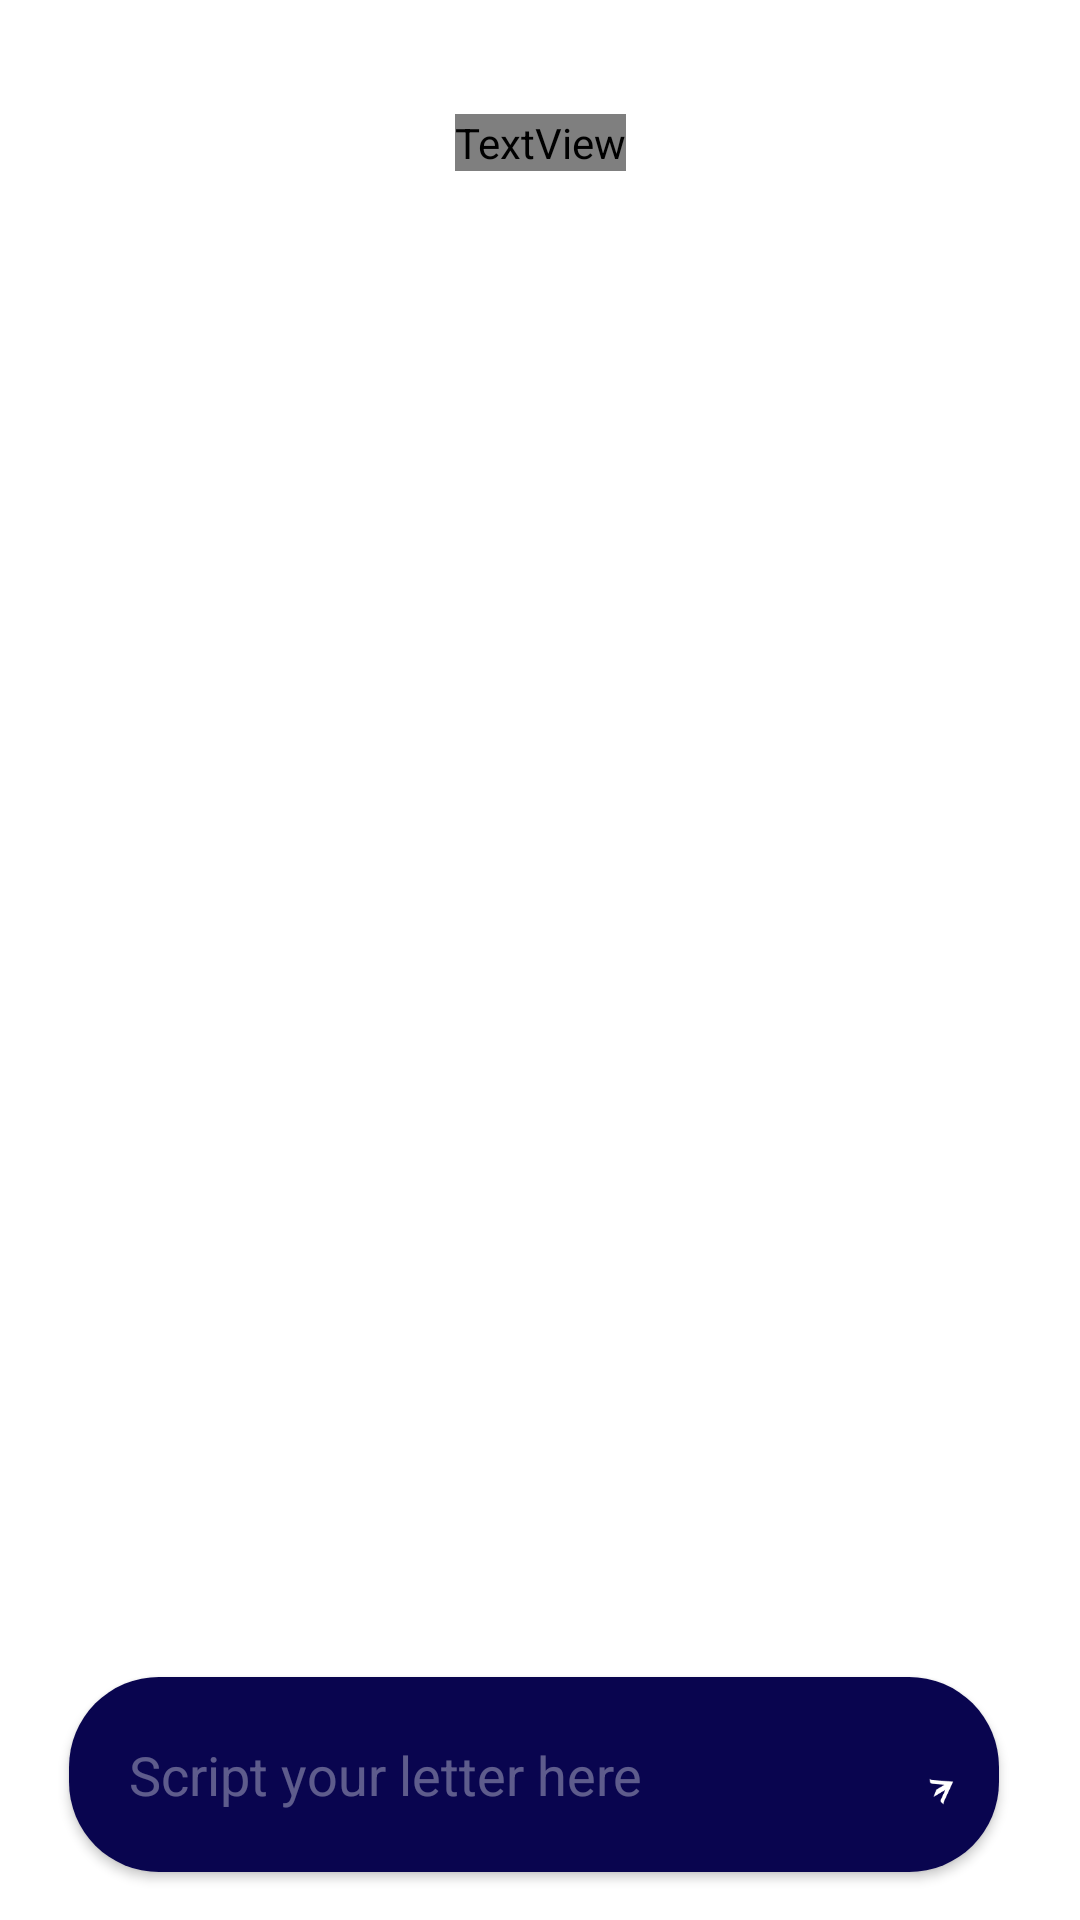

Where icons sit on this 1080 x 1920 app screen, as [x1=x1, y1=y1, x2=x2, y2=y2]:
send: [x1=929, y1=1779, x2=953, y2=1805]
